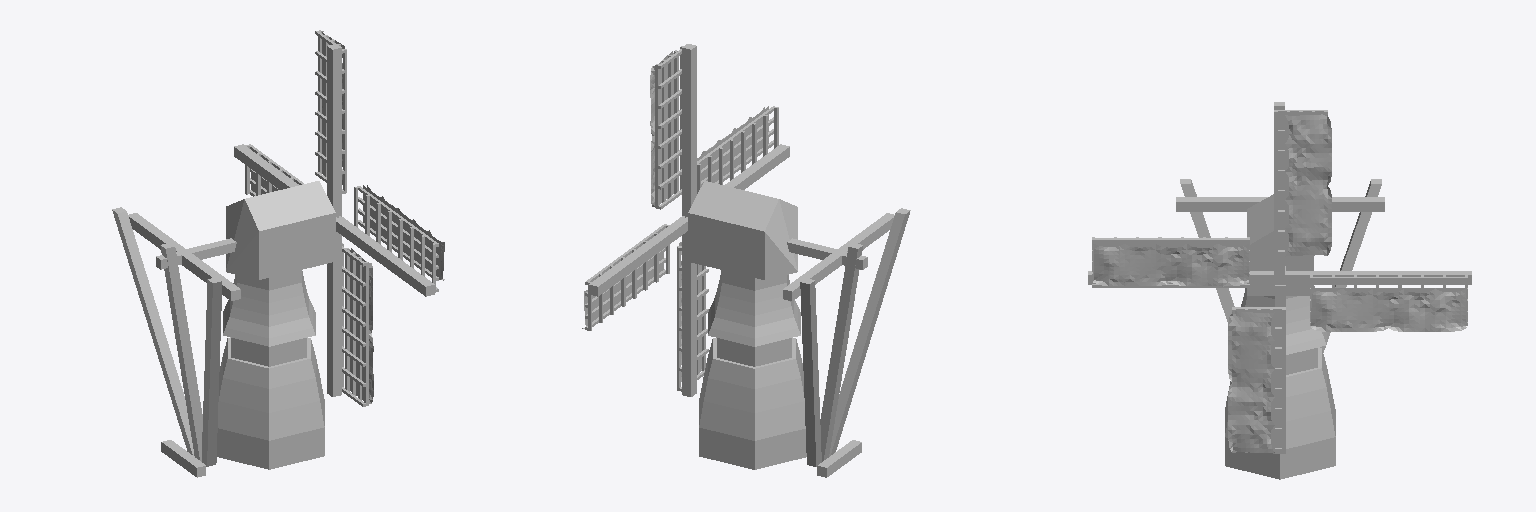
The model's file is windmillalt.obj.
3 views of the same model, side by side, from view 1: azimuth 30°, elevation 25°; view 2: azimuth 150°, elevation 25°; view 3: azimuth 270°, elevation 25° (orthographic).
Parts seen in each view (by area): view 1: windmill.001; view 2: windmill.001; view 3: windmill.001.
Boxes of the visible parts, <box> form: windmill.001: <box>112,30,444,477</box>; windmill.001: <box>582,44,910,477</box>; windmill.001: <box>1088,102,1471,479</box>.
Size of the model in its own units: 4.55 by 8.48 by 7.75.